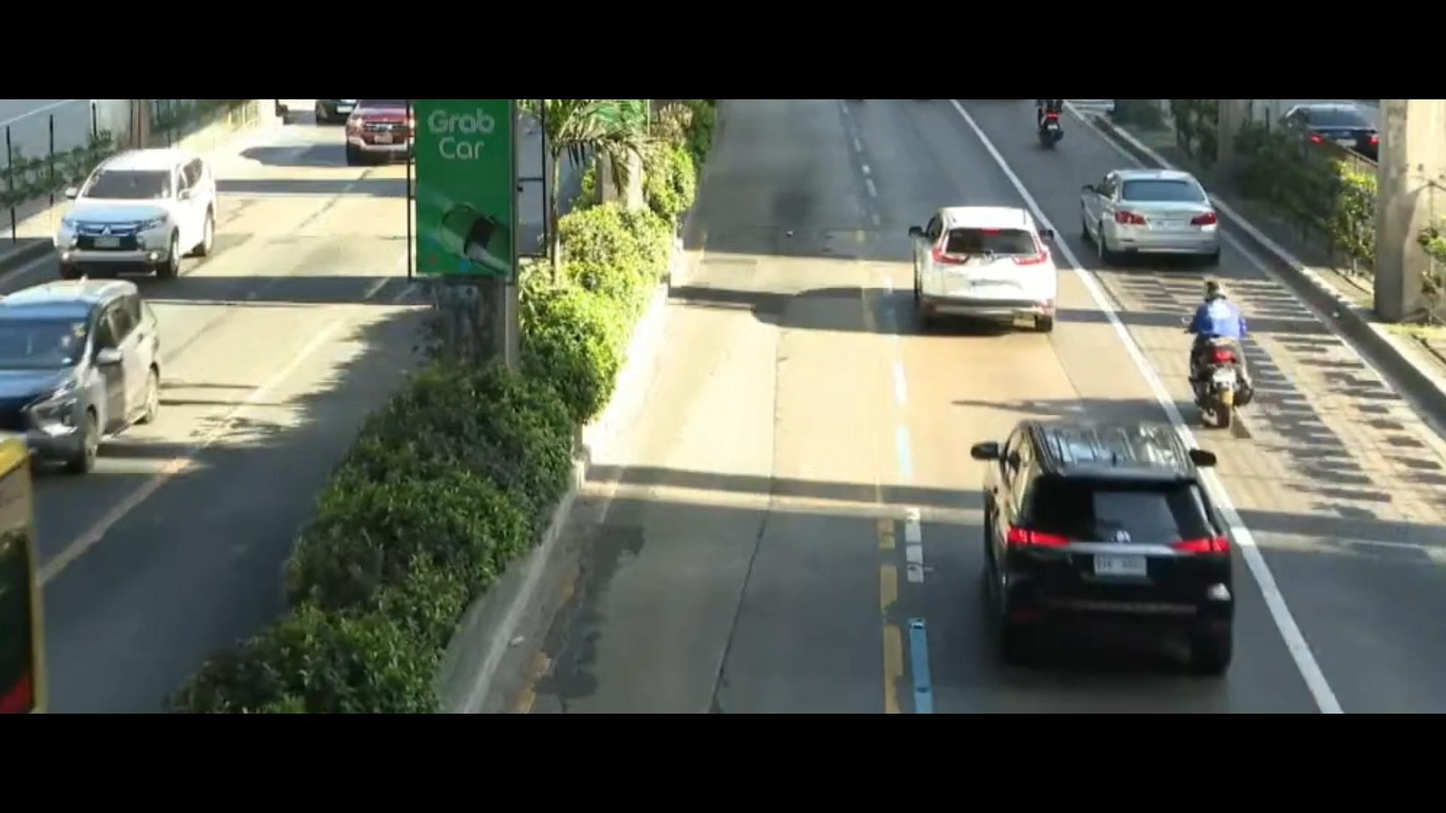Motorcycle: (1177, 271, 1266, 437)
SUV: (959, 384, 1319, 690), (0, 275, 196, 465), (911, 185, 1079, 336), (52, 140, 226, 276)
Sedan: (1075, 147, 1241, 282)
